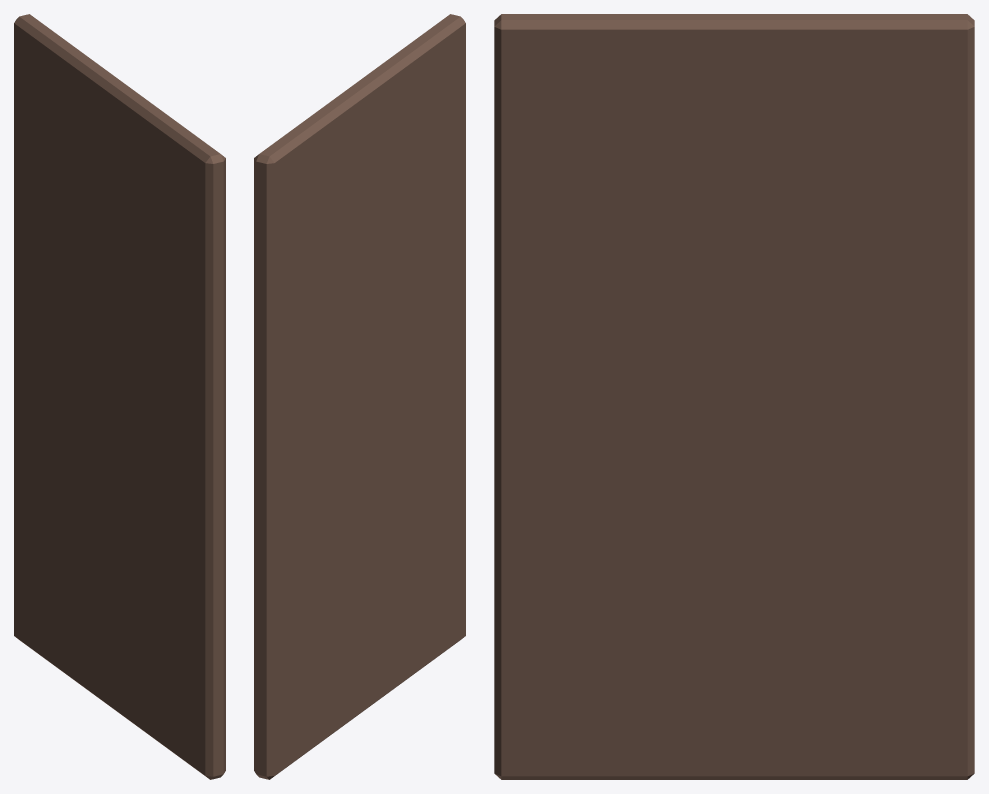
Rendered from Door.fbx.
The picture shows the model from 3 angles, left to right: view 1: azimuth 30°, elevation 25°; view 2: azimuth 150°, elevation 25°; view 3: azimuth 270°, elevation 25°; orthographic projection. The views are drawn at different scales.
Visible parts, largest first — view 1: pCube8; view 2: pCube8; view 3: pCube8.
Boxes of the visible parts, left/top/right/bottom form: pCube8: left=14, top=14, right=225, bottom=779; pCube8: left=254, top=14, right=465, bottom=779; pCube8: left=494, top=14, right=974, bottom=779.
Bounding box in the file's own units: 11.4 × 329 × 189.
